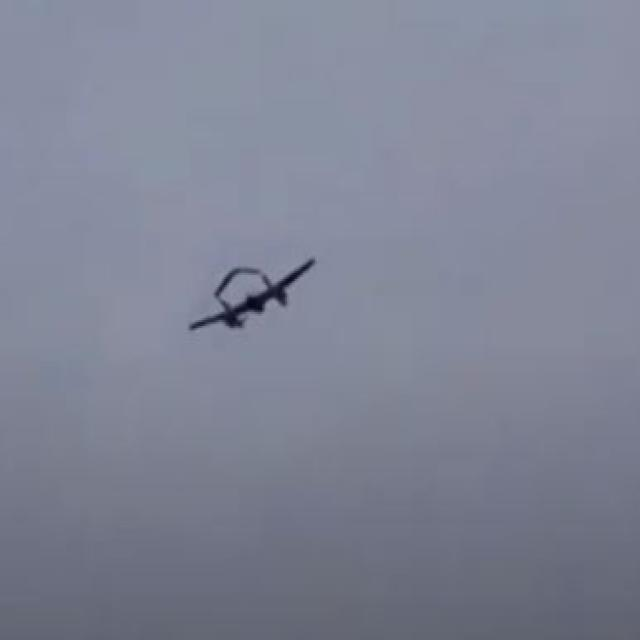iha: (187, 286, 317, 302)
